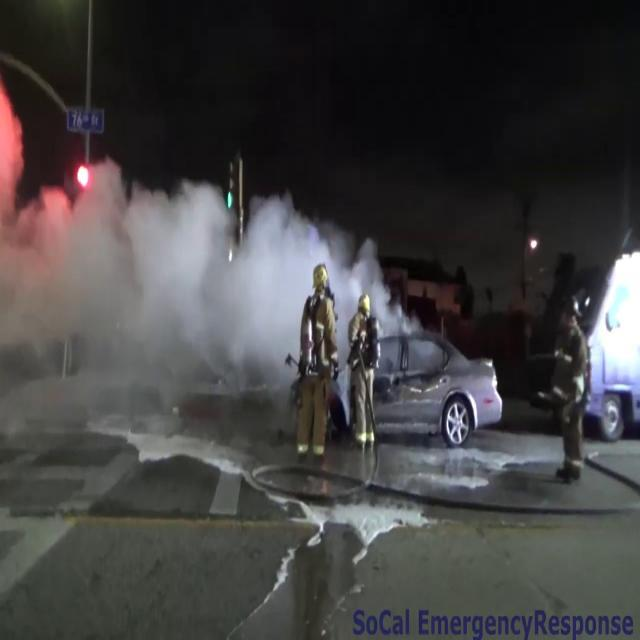Smoke: (0, 167, 418, 398)
